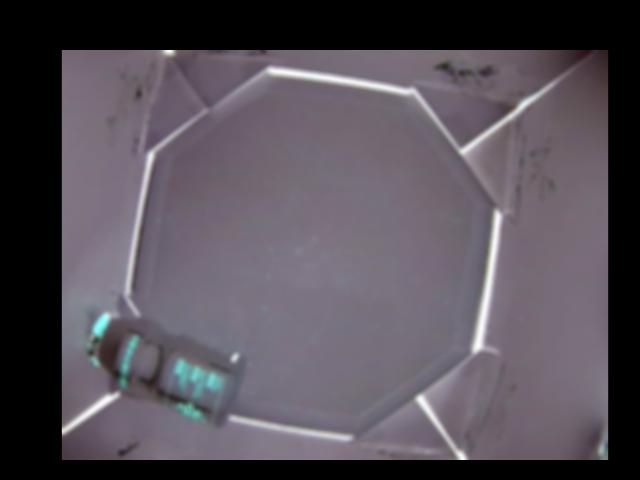Bottle: (86, 312, 247, 432)
